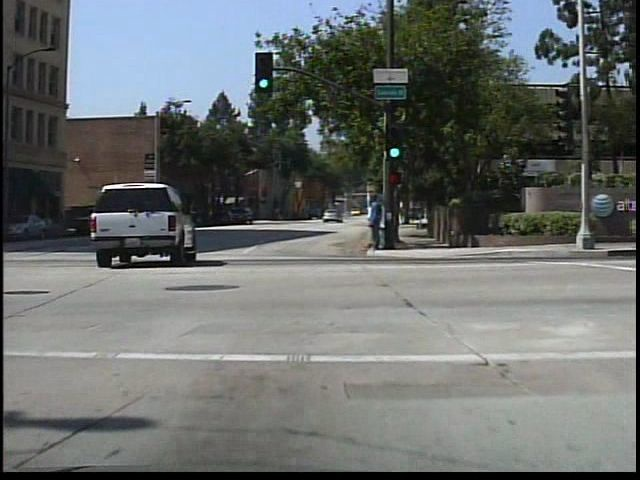person: (363, 192, 385, 252), (373, 196, 391, 250)
